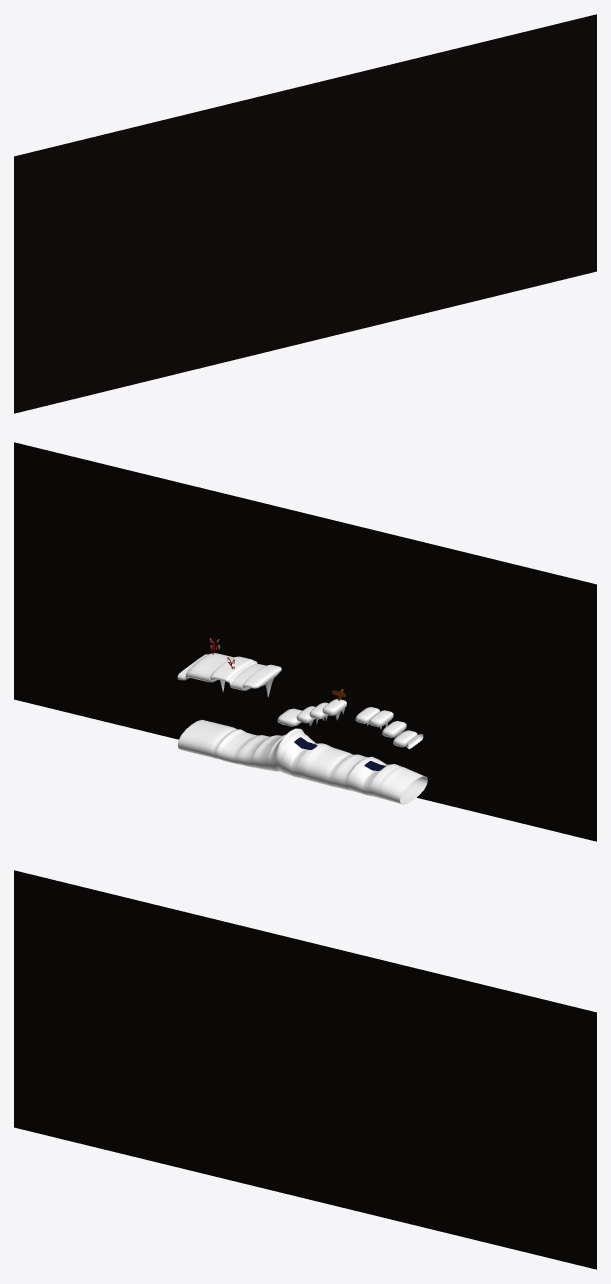
The model's file is screen_08_00.obj.
The picture shows the model from 3 angles, top to bottom: view 1: azimuth 30°, elevation 25°; view 2: azimuth 150°, elevation 25°; view 3: azimuth 330°, elevation 25°; orthographic projection.
Parts seen in each view (by area): view 1: Background.002_Plane.001; view 2: Background.002_Plane.001, Ground.000_Cube.010, OverGround.009_Cube.105; view 3: Background.002_Plane.001.
Boxes of the visible parts, box(x1,y1,x2,y2) form: Background.002_Plane.001: box(14, 14, 596, 413); Background.002_Plane.001: box(14, 442, 596, 841); Ground.000_Cube.010: box(177, 720, 427, 804); OverGround.009_Cube.105: box(177, 653, 281, 690); Background.002_Plane.001: box(14, 870, 596, 1269).
Bounding box in the file's own units: 89.92 × 37.92 × 8.
